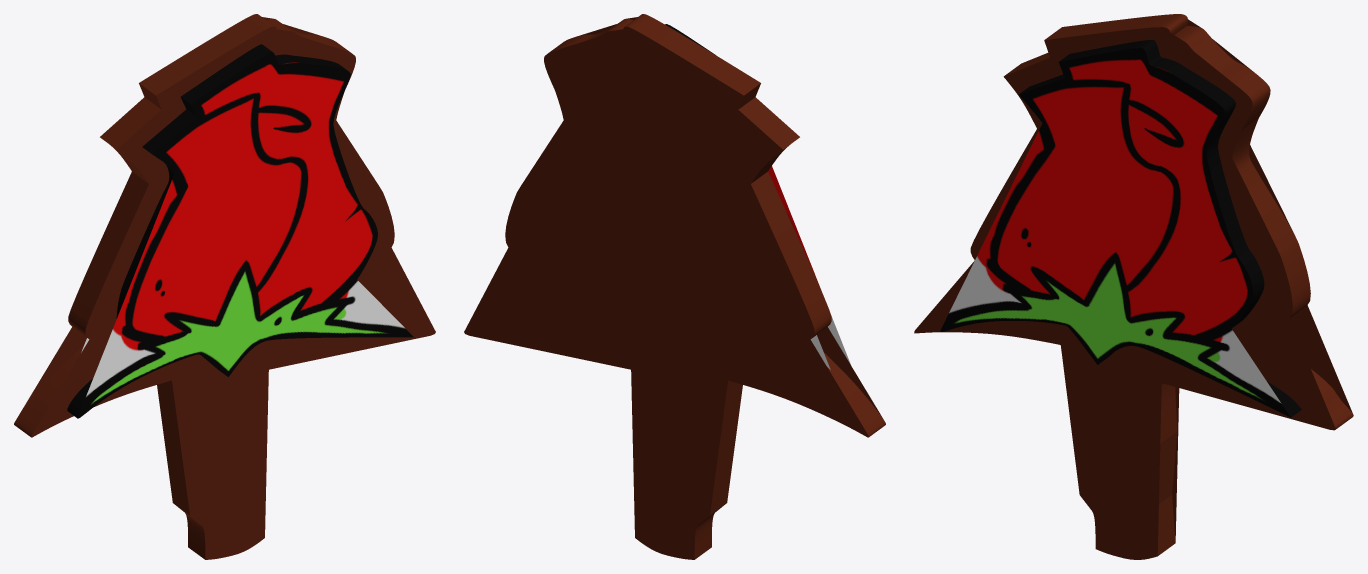
Rendered from Rosa.FBX.
3 renders of one model, left to right at view 1: azimuth 30°, elevation 25°; view 2: azimuth 150°, elevation 25°; view 3: azimuth 330°, elevation 25°, orthographic. The views are drawn at different scales.
Parts seen in each view (by area): view 1: Line002, Line001; view 2: Line001, Line002; view 3: Line002, Line001.
Part boxes in pixels (x1,y1,x2,y2): Line002: [67, 44, 413, 418]; Line001: [14, 14, 435, 559]; Line001: [464, 14, 885, 559]; Line002: [665, 24, 850, 369]; Line002: [940, 40, 1301, 417]; Line001: [914, 14, 1353, 559].
Size of the model in its own units: 61.05 by 74.82 by 7.27.
2 materials, 1 textured.
